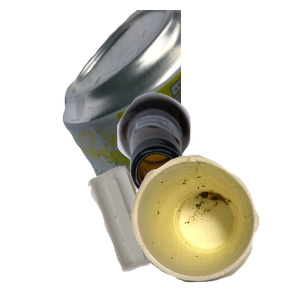glass: (115, 90, 300, 270)
metal: (60, 10, 300, 190)
plastic: (85, 163, 235, 300)
trash: (129, 152, 300, 300)
